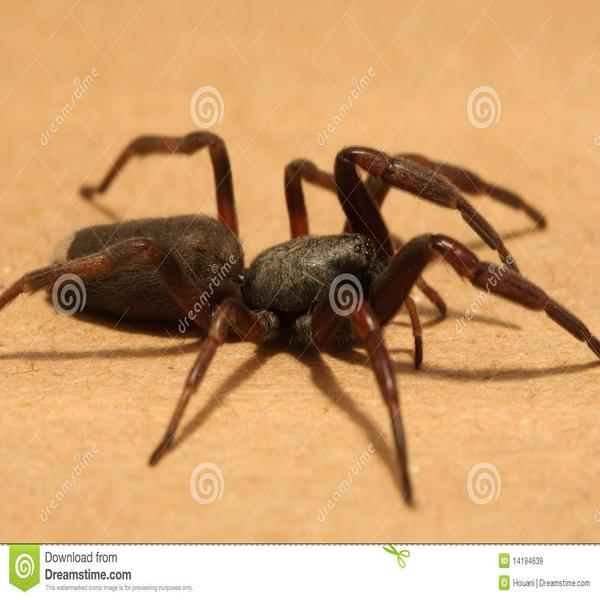White-Tailed Spider: (27, 128, 600, 478)
